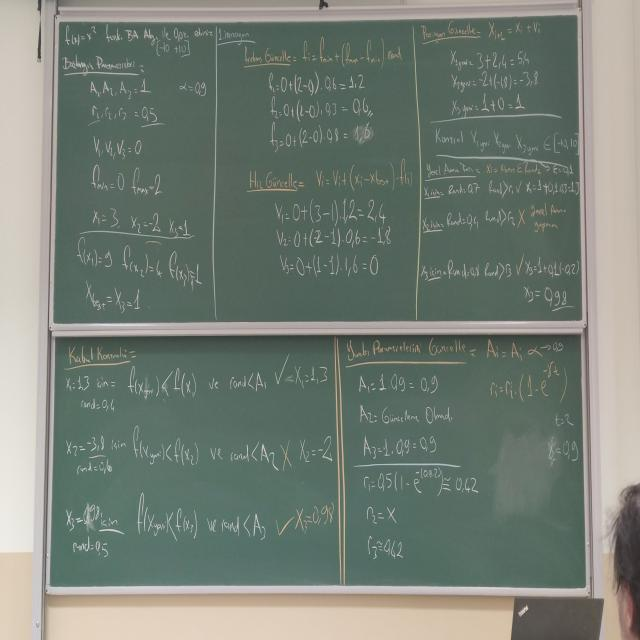math: (134, 488, 338, 538), (273, 196, 395, 279), (88, 75, 163, 199), (265, 68, 374, 153), (74, 232, 203, 287), (482, 332, 572, 408), (448, 42, 540, 116), (356, 464, 481, 498), (61, 499, 125, 560), (89, 206, 192, 243), (229, 358, 331, 394), (470, 124, 580, 157), (299, 36, 404, 69), (360, 498, 410, 564), (128, 421, 199, 467), (227, 436, 335, 466), (312, 160, 415, 190), (521, 258, 582, 308), (80, 274, 148, 314), (60, 370, 116, 415), (127, 366, 198, 400), (356, 370, 442, 398), (360, 431, 440, 461), (544, 408, 584, 468), (63, 432, 114, 478), (482, 159, 575, 181), (488, 181, 583, 202), (420, 256, 480, 286), (528, 199, 570, 236), (420, 213, 482, 238), (483, 19, 543, 43), (61, 20, 100, 51), (422, 182, 482, 200), (484, 205, 519, 231), (482, 257, 516, 282), (176, 75, 208, 100), (352, 400, 378, 429)
text: (342, 334, 468, 364), (104, 20, 215, 44), (240, 40, 292, 72), (61, 54, 136, 74), (65, 342, 129, 364), (421, 20, 479, 44), (246, 168, 299, 192), (424, 160, 474, 179), (433, 125, 466, 146), (217, 25, 252, 42)
